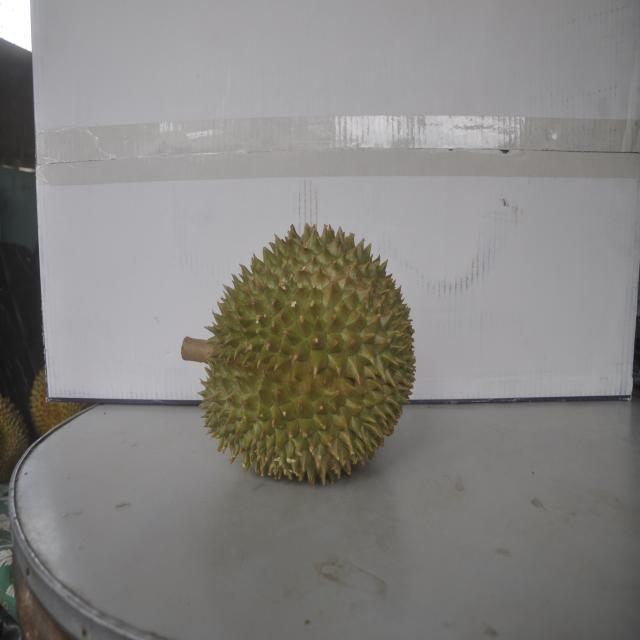mature: (197, 220, 418, 487), (29, 366, 88, 436), (1, 390, 32, 477)
